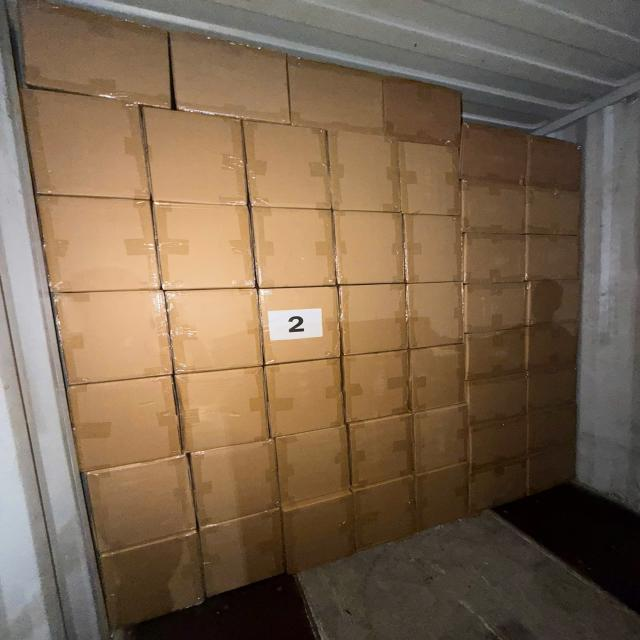Carton: (17, 0, 174, 104), (17, 86, 148, 200), (40, 198, 162, 296), (177, 22, 296, 120), (86, 458, 196, 558), (57, 288, 174, 382), (73, 374, 180, 475), (145, 106, 249, 207), (102, 532, 202, 628), (151, 203, 252, 294), (170, 289, 263, 376), (243, 120, 331, 210), (176, 367, 264, 454), (194, 439, 277, 530), (205, 511, 288, 600), (252, 205, 336, 289), (287, 64, 381, 136), (258, 285, 338, 365), (380, 72, 464, 148), (275, 424, 349, 506), (327, 134, 401, 216), (266, 360, 342, 439), (288, 490, 357, 574), (332, 210, 403, 286), (341, 347, 408, 422), (349, 414, 414, 491), (338, 281, 405, 355), (400, 139, 462, 215), (352, 475, 414, 550), (526, 324, 580, 410), (530, 406, 581, 492), (459, 122, 529, 182), (405, 213, 464, 284), (408, 341, 466, 410), (407, 281, 465, 349), (413, 401, 469, 471), (414, 464, 468, 532), (525, 131, 585, 191), (460, 182, 525, 235), (468, 460, 530, 515), (464, 282, 530, 332), (469, 414, 532, 466), (466, 330, 531, 380), (462, 232, 526, 282), (468, 373, 531, 421), (526, 187, 586, 236), (527, 236, 585, 283), (527, 278, 583, 324), (528, 365, 580, 406)
